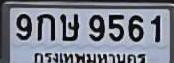1: (150, 14, 161, 44)
5: (108, 14, 125, 42)
6: (127, 14, 144, 42)
9: (88, 14, 106, 42), (15, 13, 32, 40)
A01: (36, 13, 56, 42)
A39: (59, 13, 80, 42)
BKK: (30, 49, 148, 63)
